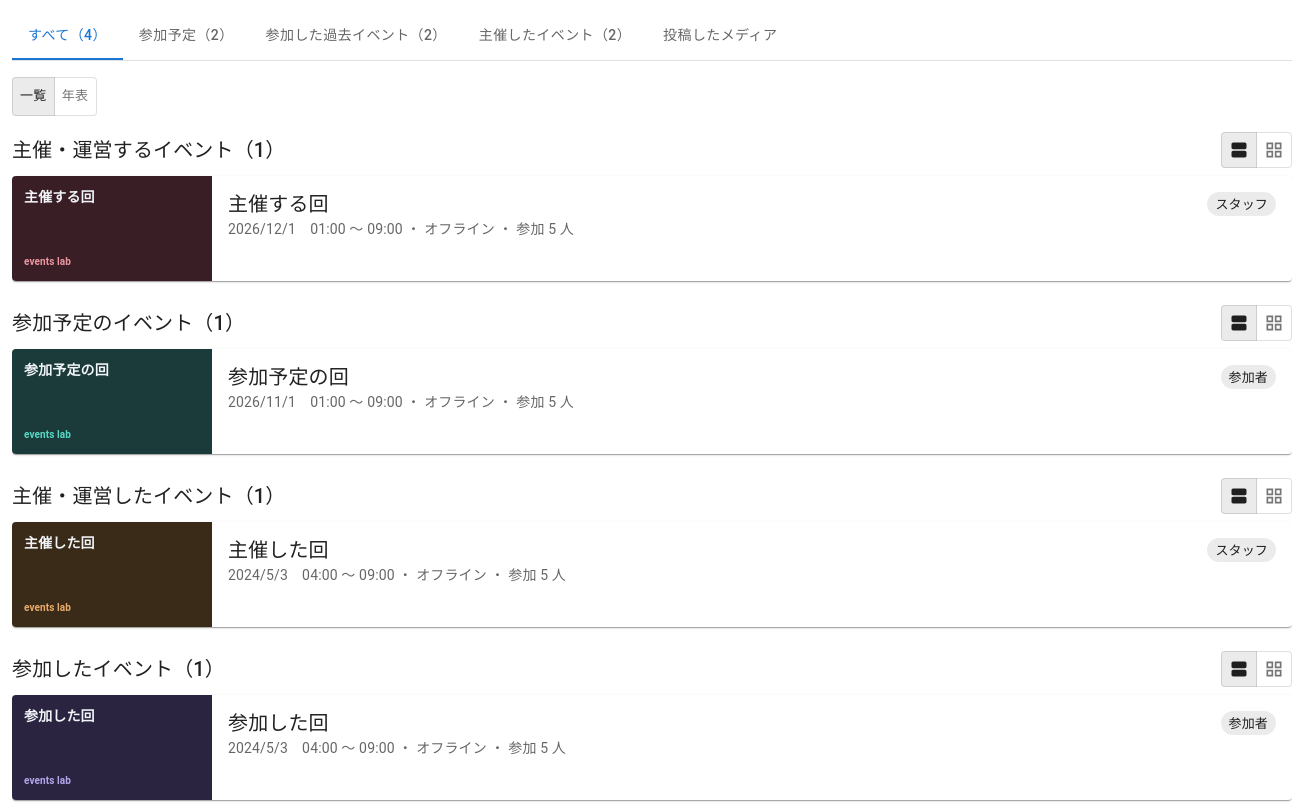
プロフィールのタブ (#407) › 主催タブは予定と過去の2セクション。参加系のタブには混ざらない
Click the tab "主催したイベント（2）": click(555, 36) [463, 12, 647, 60]
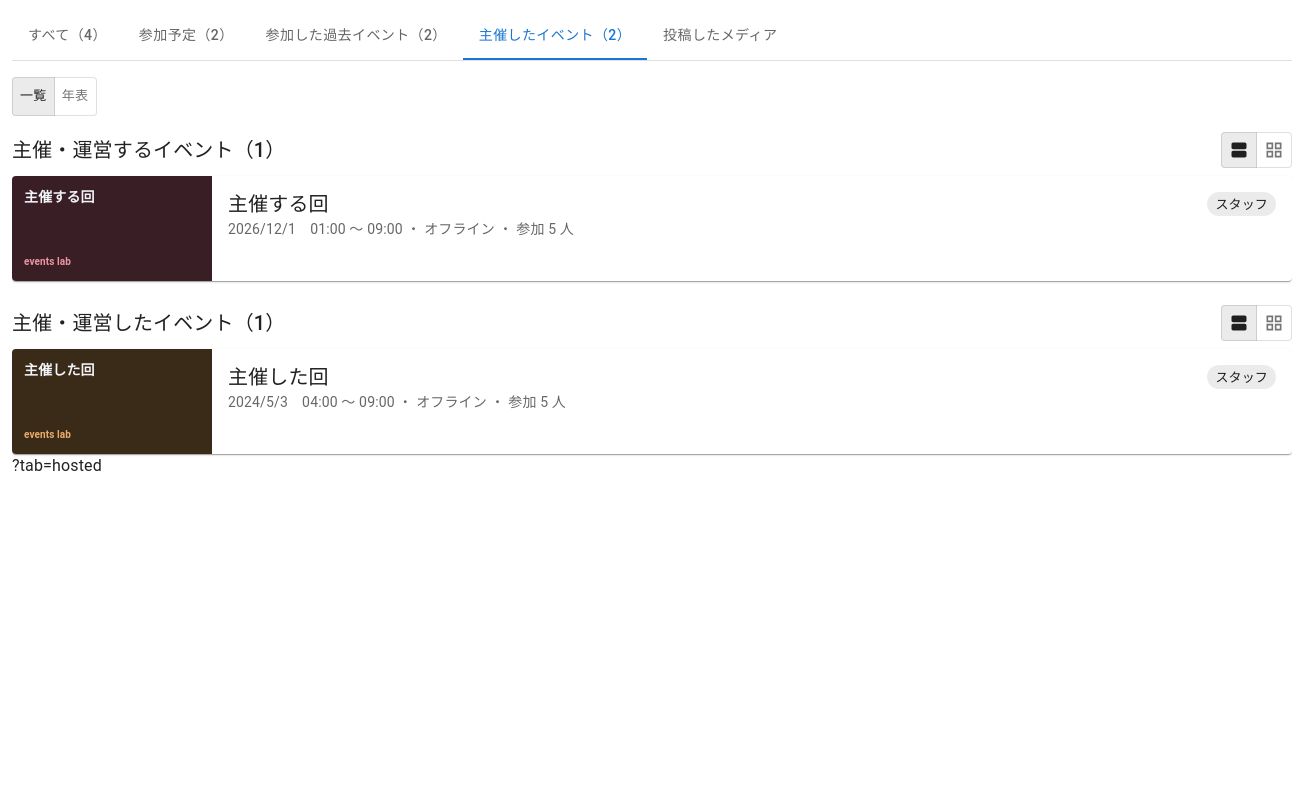
Expected: the heading "主催・運営するイベント（1）" is shown, [12, 134, 286, 166]
Now the link "参加予定の回" is gone
Now the link "参加した回" is gone
